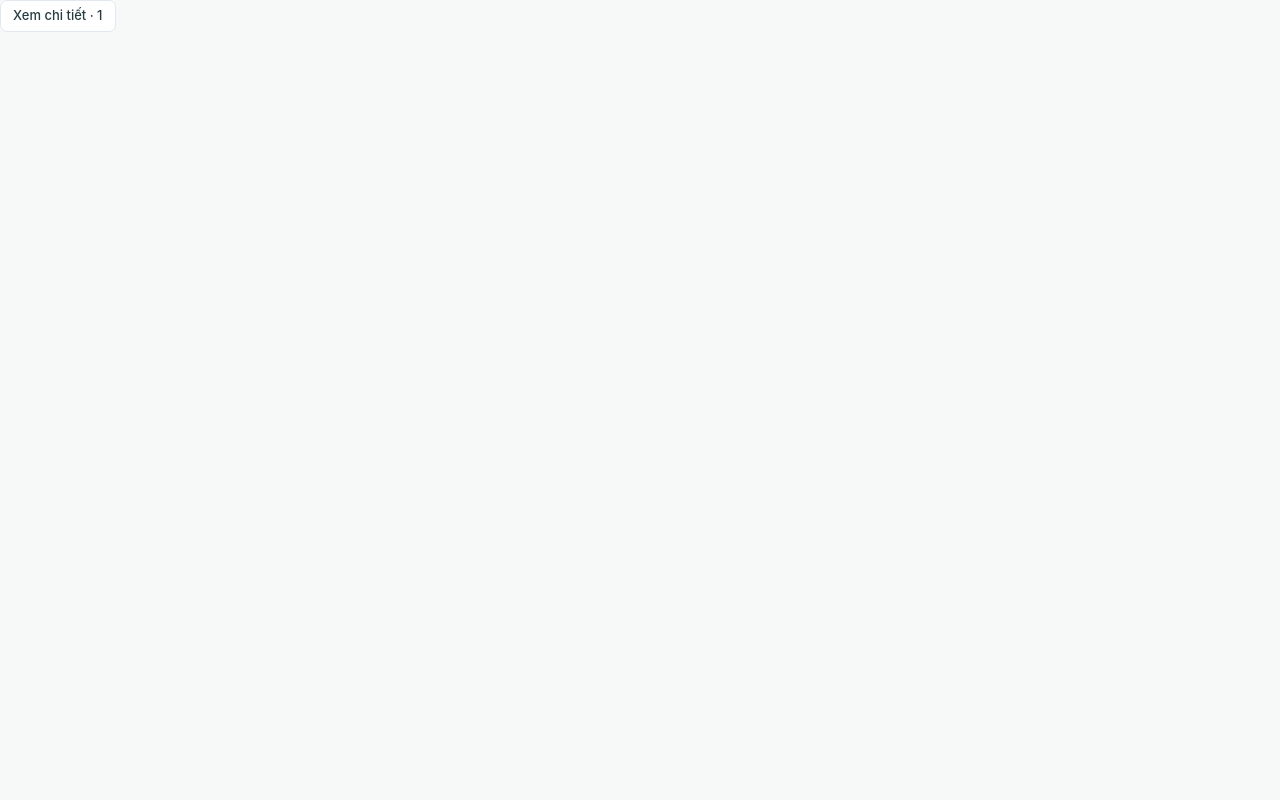
Scenario: counts the latest unmatched SRT blocks in details without a cue link
Click the button "Xem chi tiết · 1" at point(58, 16), box [0,0,116,32]
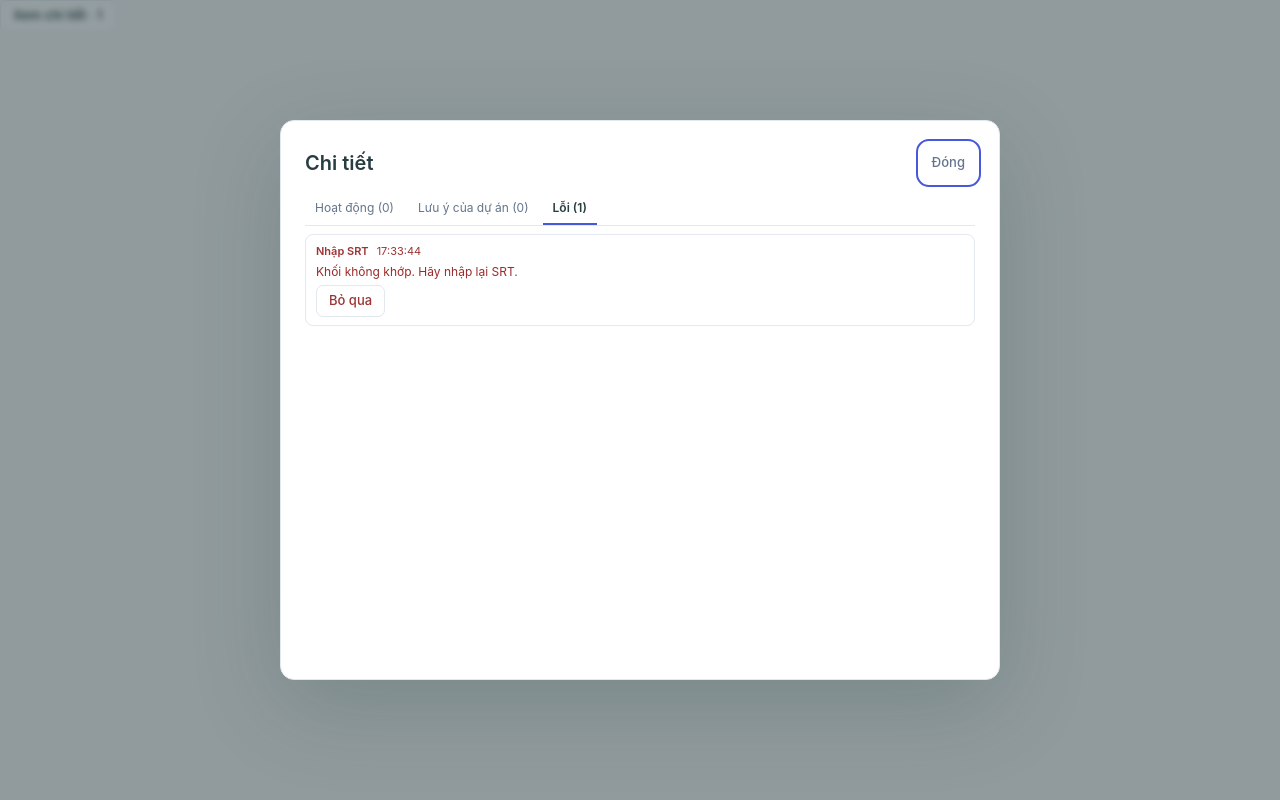
Expected: the tab "Lỗi (1)" is shown, [543,192,597,224]
Expected: the text "Khối không khớp. Hãy nhập lại SRT." is shown, [316,264,518,279]
